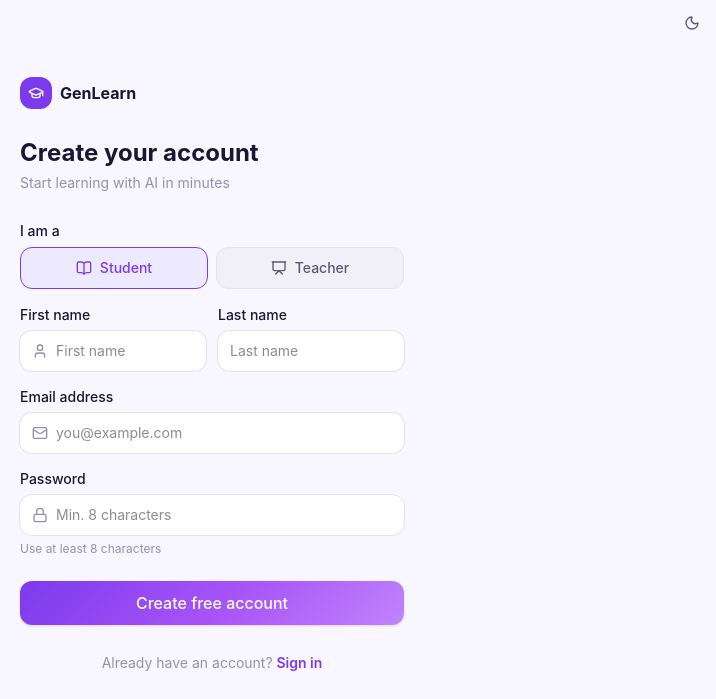
Test: RegisterPage › shows validation error for invalid email
Type "Alice" into the field labelled "First name" at (113, 351), box [20,331,206,371]
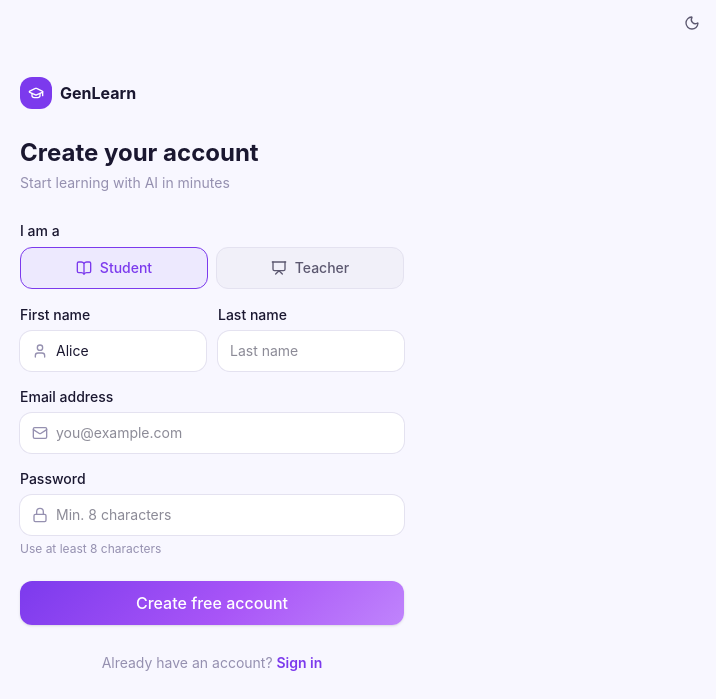
Type "Smith" into the field labelled "Last name" at (311, 351), box [218,331,404,371]
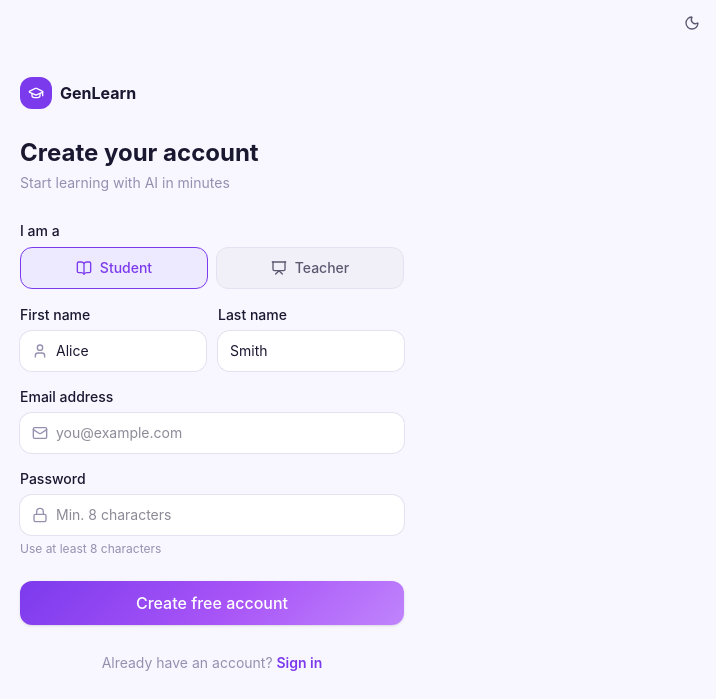
Type "notanemail" into the field labelled "Email address" at (212, 433), box [20,413,404,453]
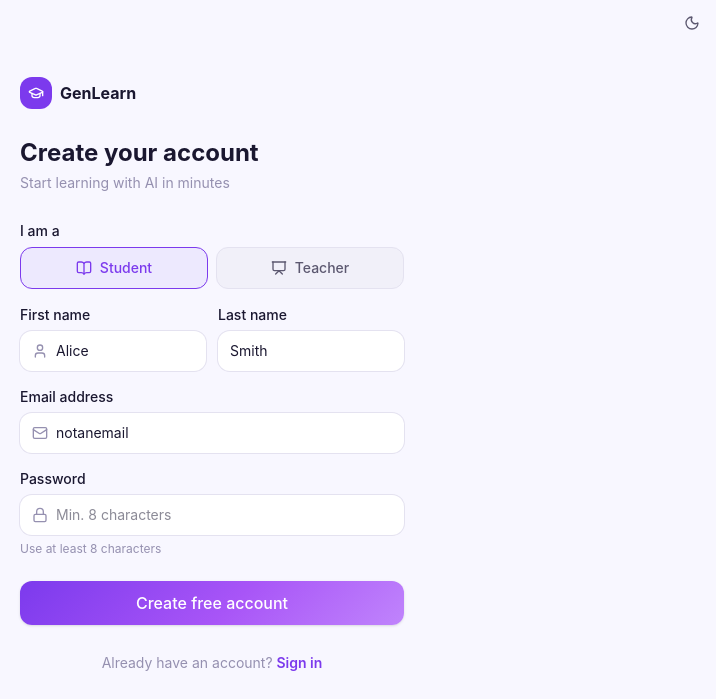
Type "password123" into the password field labelled "Password" at (212, 515), box [20,495,404,535]
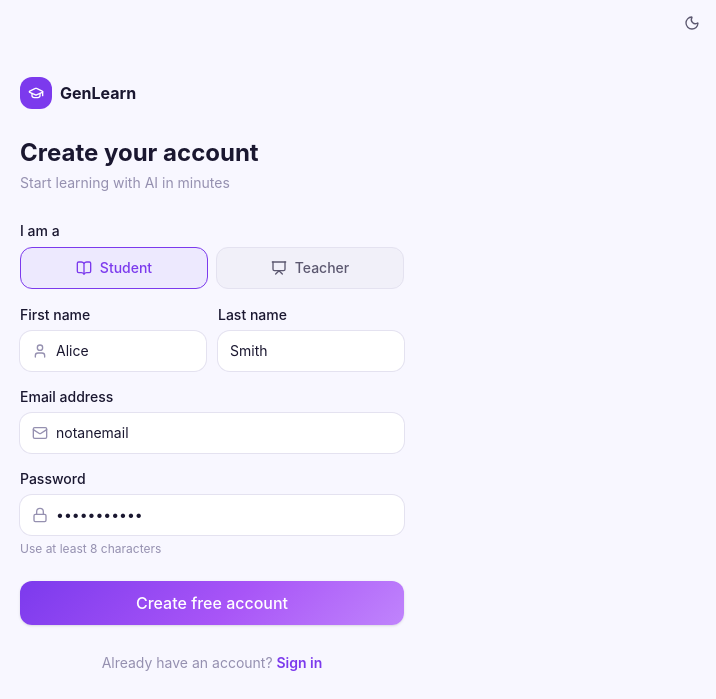
Submit the form from the button "Create free account", box [20,581,404,625]
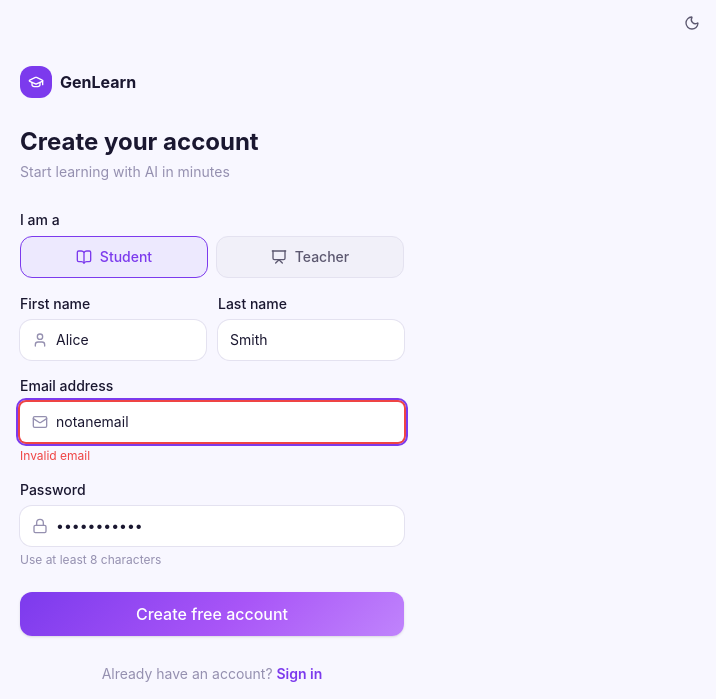
Now the text "Invalid email" is shown, box [20,448,90,463]
